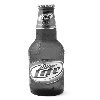beer: (29, 3, 66, 98)
